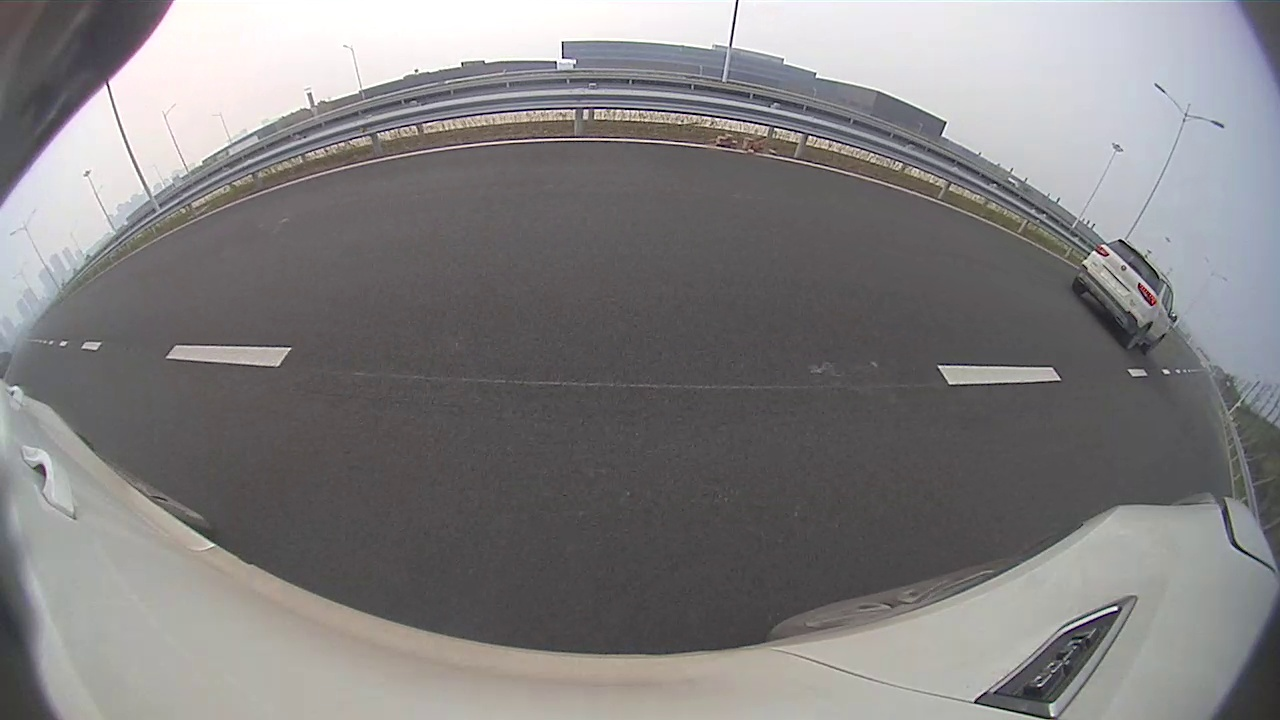car: (707, 149, 780, 196)
rear: (723, 174, 732, 194)
